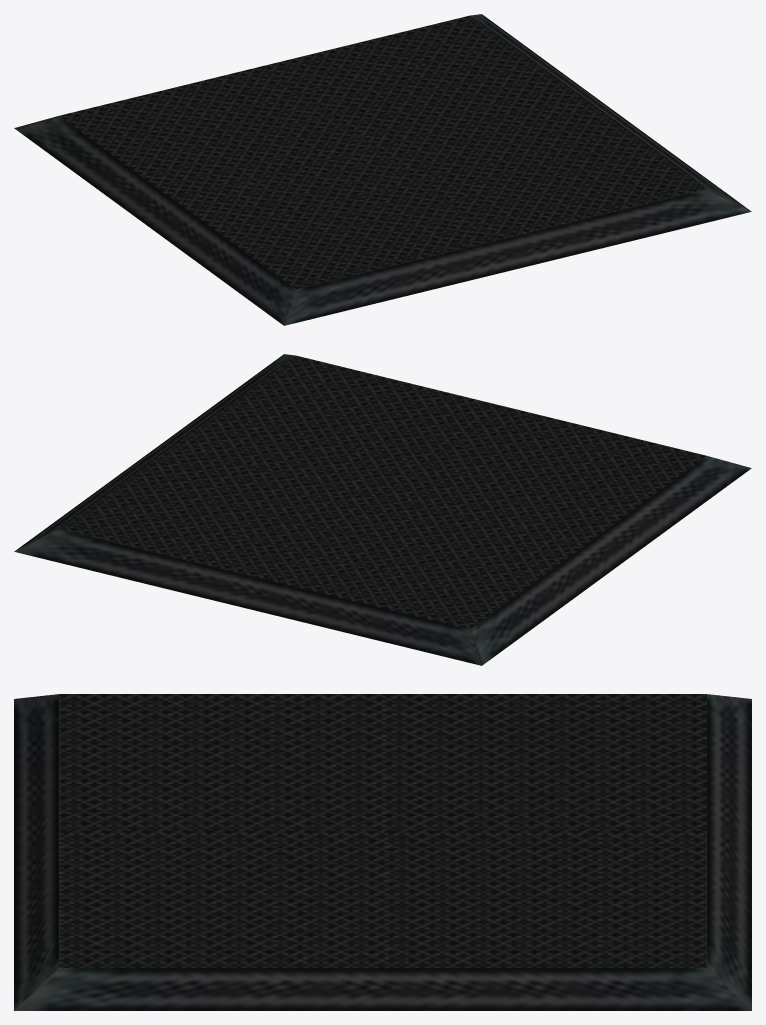
Rendered from elevator_base.fbx.
3 views of the same model, one above another, from view 1: azimuth 30°, elevation 25°; view 2: azimuth 150°, elevation 25°; view 3: azimuth 270°, elevation 25° (orthographic). The views are drawn at different scales.
Visible parts, largest first — view 1: Cube; view 2: Cube; view 3: Cube.
Boxes of the visible parts, x1,y1,x2,y2 form: Cube: (14, 14, 751, 325); Cube: (14, 354, 751, 665); Cube: (14, 694, 751, 1010).
Bounding box in the file's own units: 600 × 21.41 × 600.
1 material, 1 textured.
